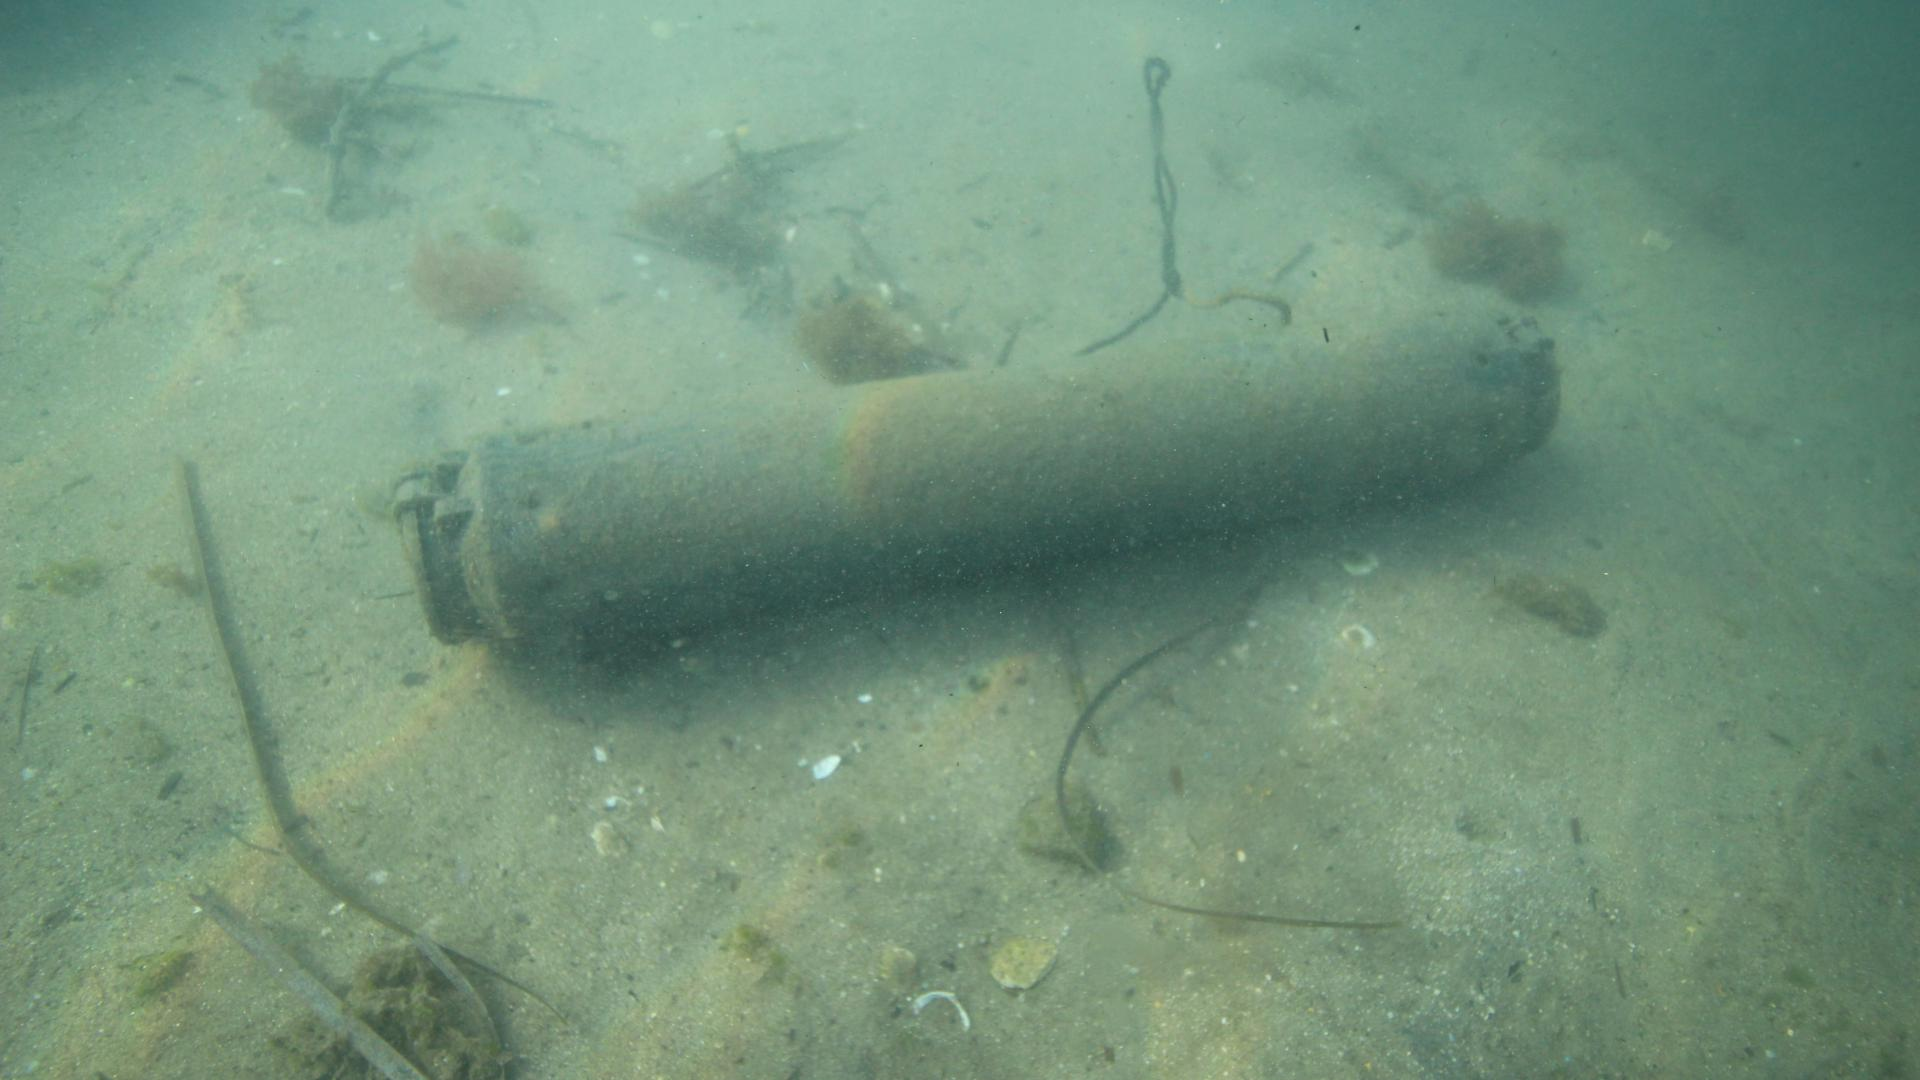bundle of ropes: (1068, 51, 1296, 360)
eel fish trap: (409, 286, 1555, 653)
